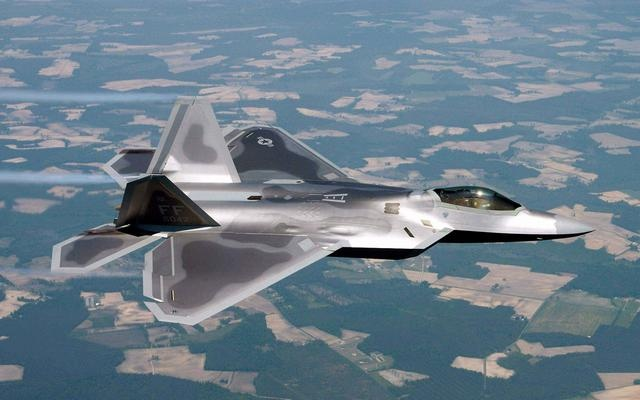airplane: (47, 93, 591, 329)
